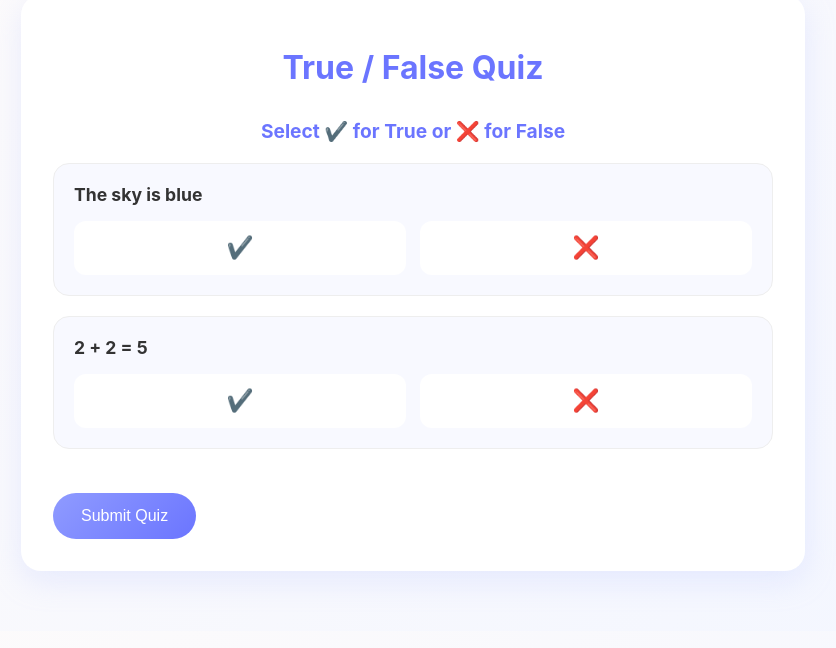
TrueFalseQuizPage Component › shows warning if submit clicked without answering all questions
Click the button "Submit Quiz".
click(125, 516)  # box [53,493,196,539]
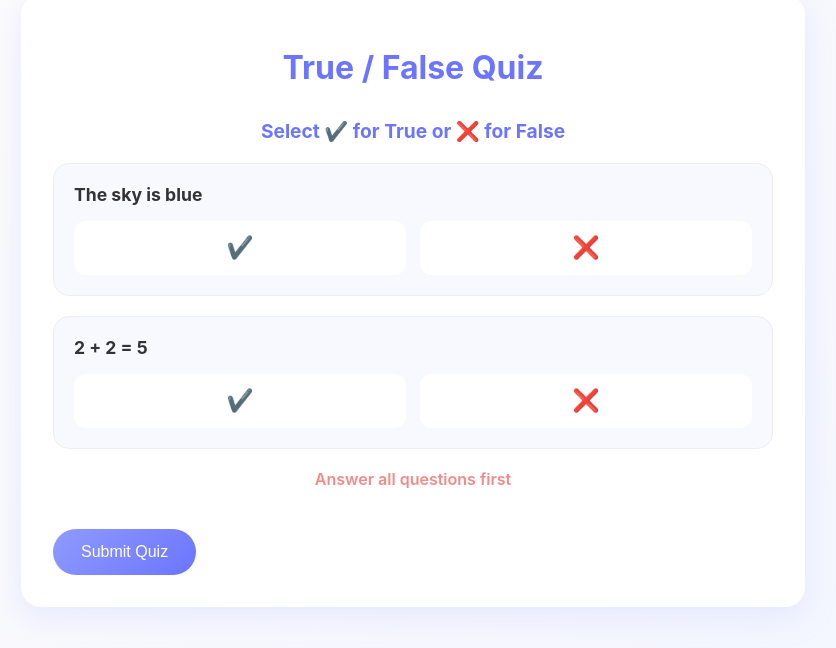
Check: the text "Answer all questions first" is shown, box [315,469,511,489]
